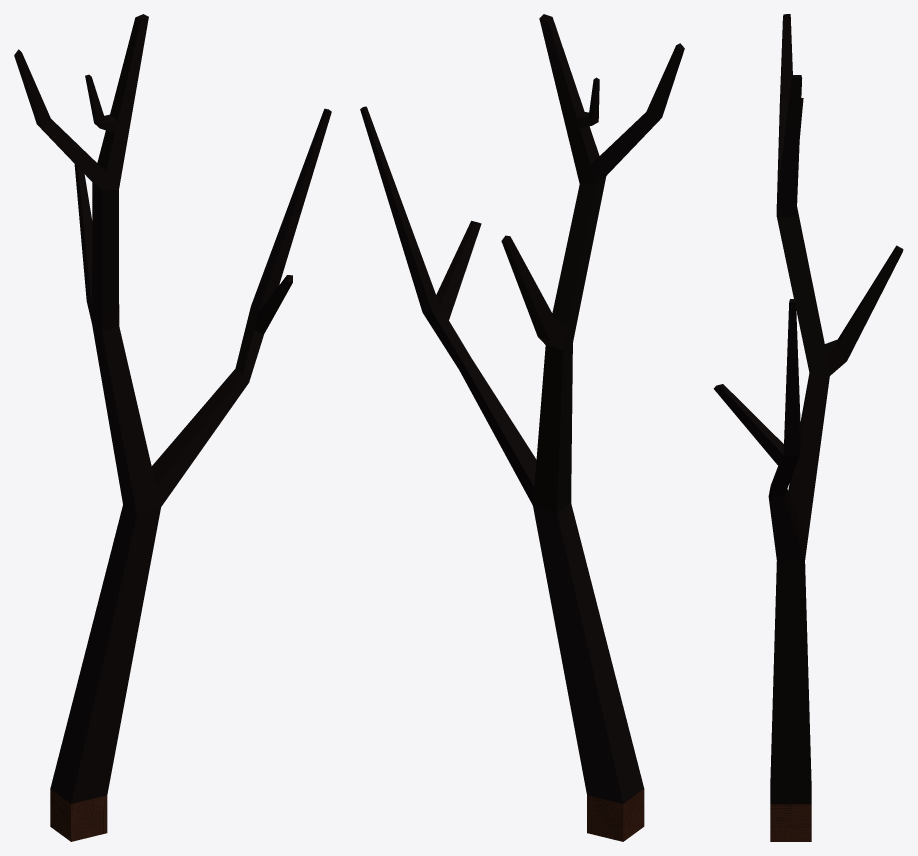
The model's file is log.fbx.
3 views of the same model, side by side, from view 1: azimuth 30°, elevation 25°; view 2: azimuth 150°, elevation 25°; view 3: azimuth 270°, elevation 25° (orthographic).
Visible parts, largest first — view 1: Log; view 2: Log; view 3: Log.
Part boxes in pixels (bbox=[...]): Log: bbox=[14, 14, 331, 841]; Log: bbox=[360, 14, 684, 841]; Log: bbox=[713, 14, 903, 841].
Size of the model in its own units: 89.11 by 214 by 46.56.
